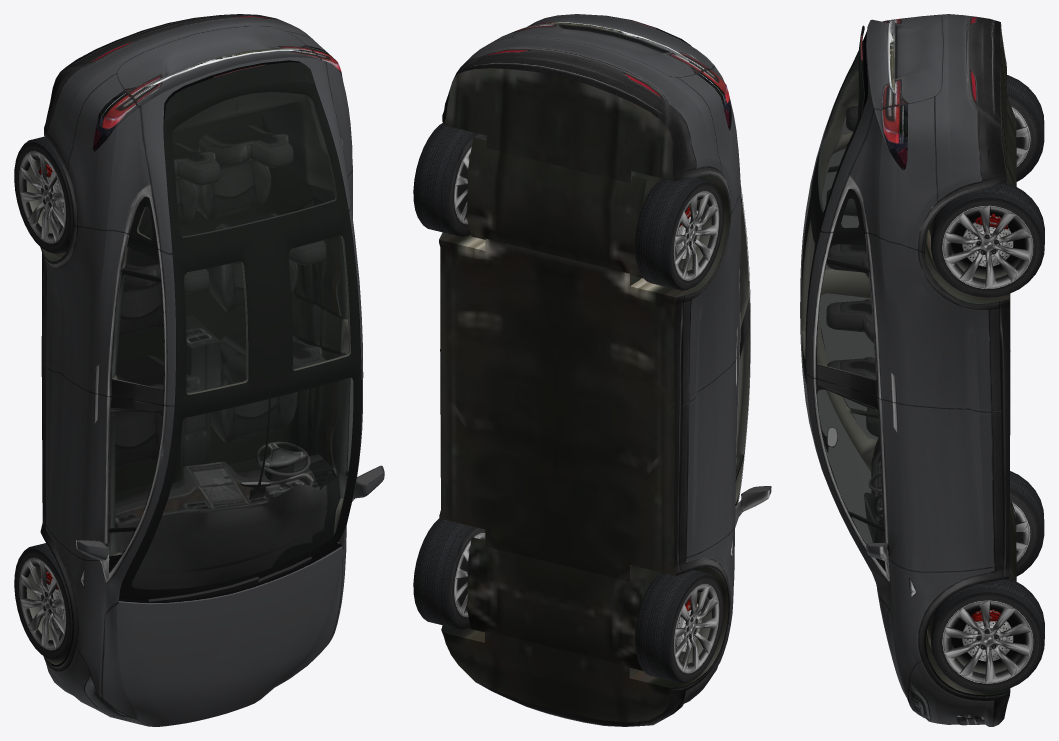
File: CarGrey.glb
The picture shows the model from 3 angles, left to right: view 1: azimuth 30°, elevation 25°; view 2: azimuth 150°, elevation 25°; view 3: azimuth 270°, elevation 25°; orthographic projection. The views are drawn at different scales.
Parts seen in each view (by area): view 1: object_car.002; view 2: object_car.002; view 3: object_car.002.
Boxes of the visible parts, x1=… form: object_car.002: x1=14, y1=14, x2=384, y2=726; object_car.002: x1=413, y1=14, x2=771, y2=726; object_car.002: x1=800, y1=14, x2=1044, y2=726.
Size of the model in its own units: 2.38 by 5.07 by 1.7.
2 materials, 2 textured.
